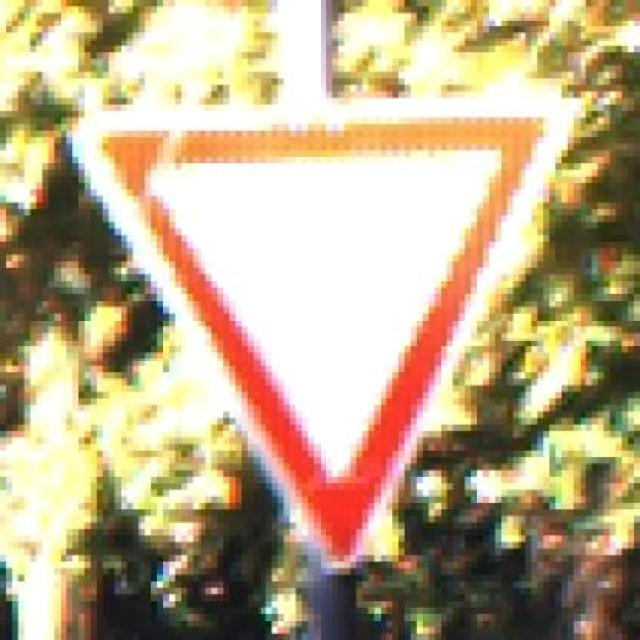Give Way: (42, 66, 610, 574)
